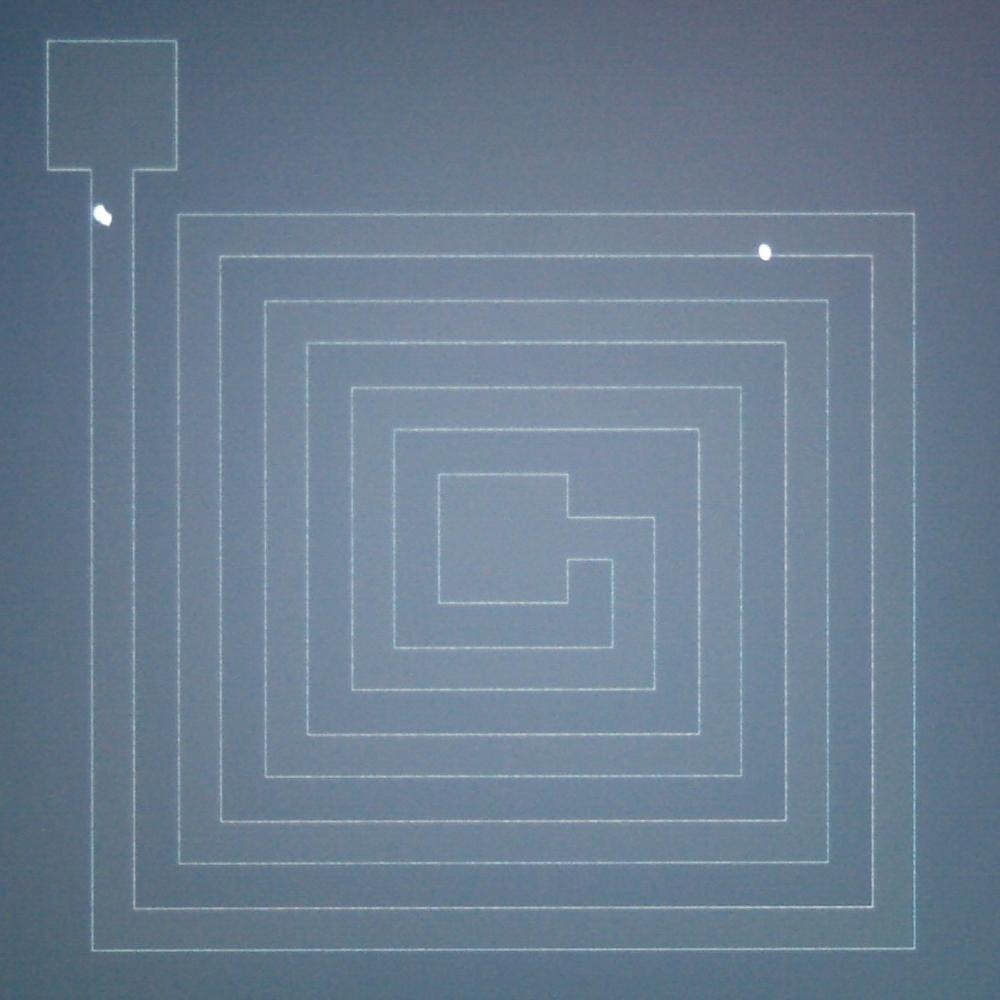Bdot: (94, 203, 115, 226)
dot: (760, 248, 770, 258)
